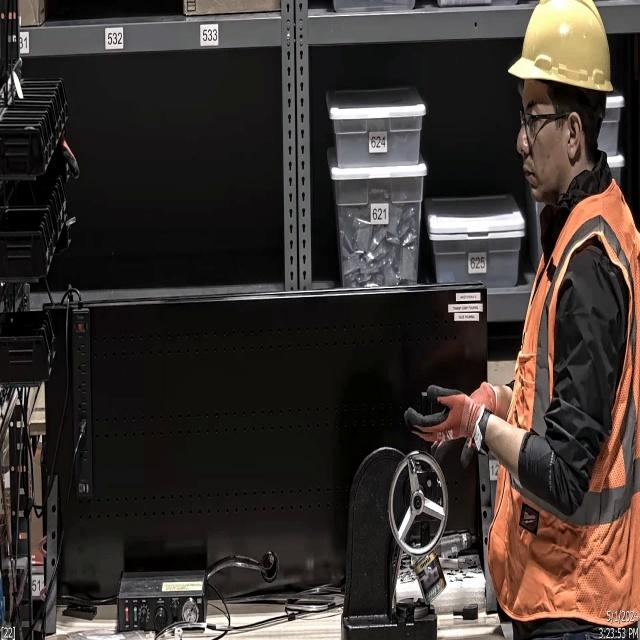construction-gloves: (402, 380, 500, 470)
